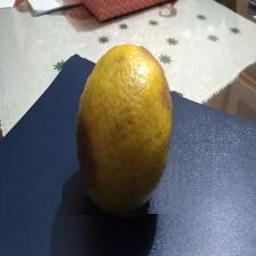Orange Semirotten: (62, 47, 186, 217)
